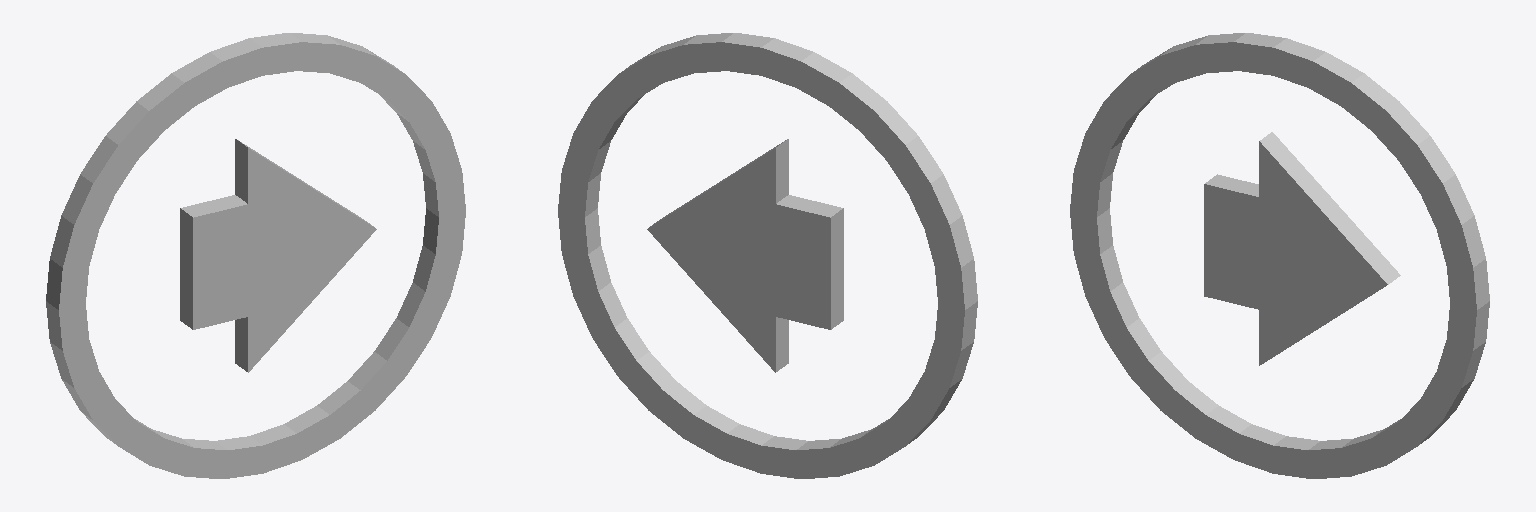
The model's file is Arrow_65.obj.
3 views of the same model, side by side, from view 1: azimuth 30°, elevation 25°; view 2: azimuth 150°, elevation 25°; view 3: azimuth 330°, elevation 25° (orthographic).
Parts seen in each view (by area): view 1: Arrow_65; view 2: Arrow_65; view 3: Arrow_65.
Part boxes in pixels (x1,y1,x2,y2): Arrow_65: (46,33,465,478); Arrow_65: (558,33,977,478); Arrow_65: (1070,33,1489,478).
Size of the model in its own units: 3.79 by 3.79 by 0.2101.